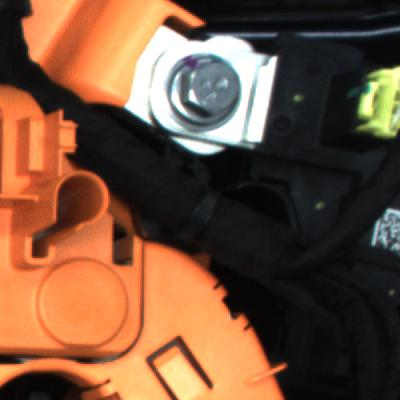nut_b: (164, 51, 252, 136)
